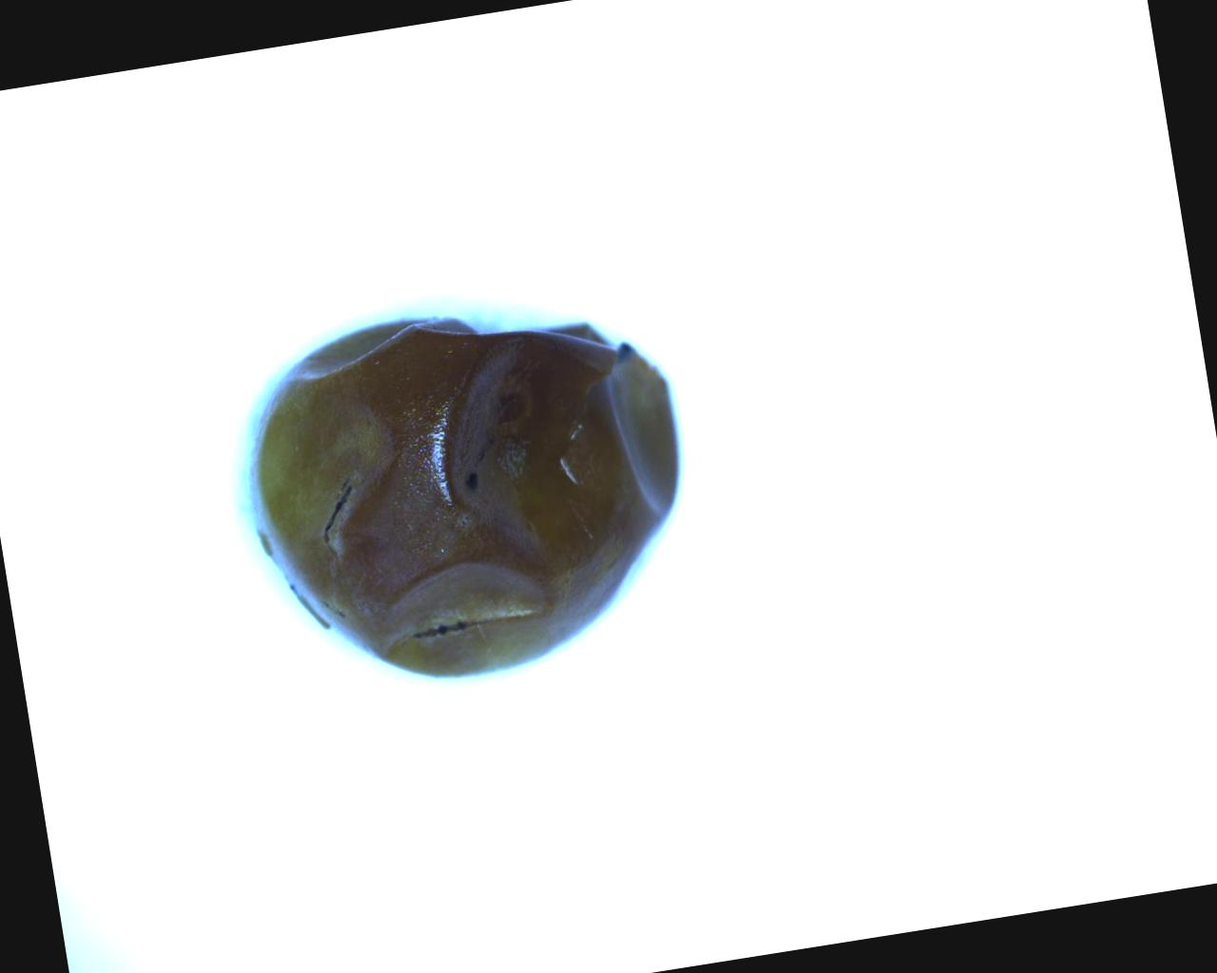Grape Rotten: (221, 276, 713, 708)
